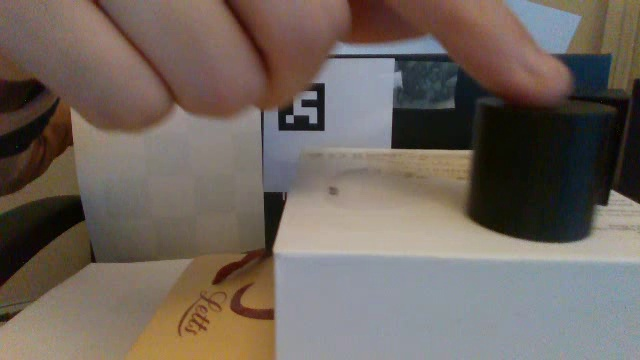cube: (564, 78, 632, 215)
cylindre: (461, 91, 617, 245)
